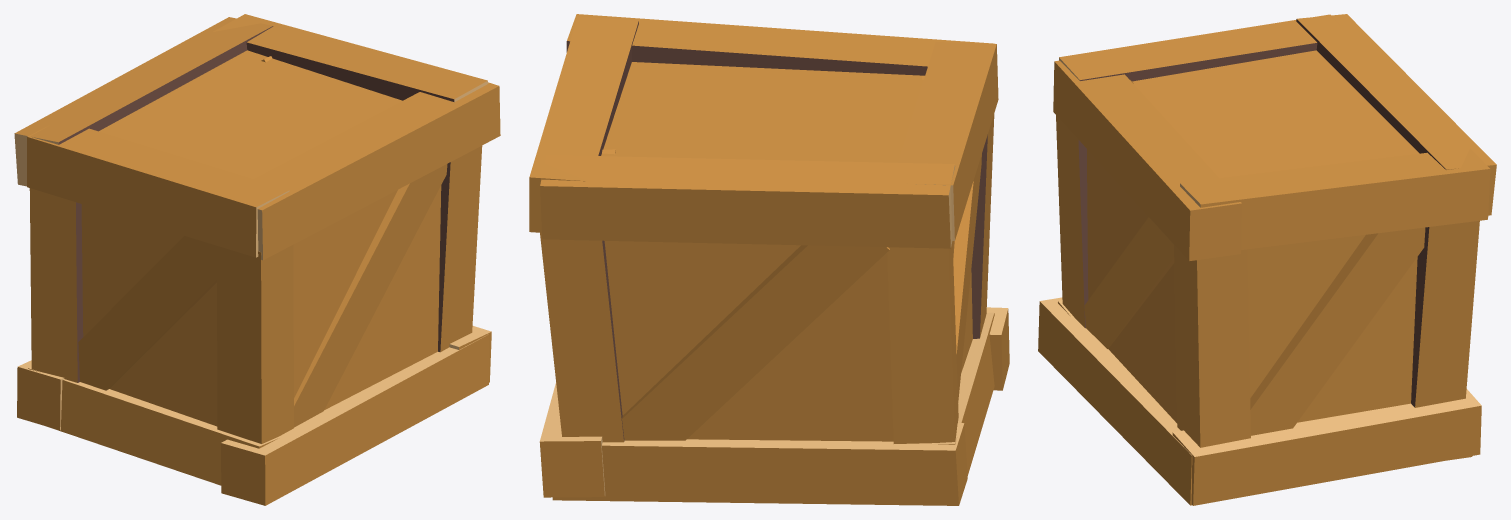
The model's file is Crate.fbx.
The picture shows the model from 3 angles, left to right: view 1: azimuth 30°, elevation 25°; view 2: azimuth 150°, elevation 25°; view 3: azimuth 270°, elevation 25°; orthographic projection. The views are drawn at different scales.
Visible parts, largest first — view 1: mesh_769379167, mesh_614302989, mesh_1640372572, mesh_1619923870, mesh_2024746474, mesh_39964771, mesh_115951327, mesh_981290163, mesh_27205149, mesh_1479183457, mesh_764046395, mesh_233117303 (+2 smaller); view 2: mesh_769379167, mesh_27205149, mesh_1069006943, mesh_789545055, mesh_1479183457, mesh_1256157347, mesh_614302989, mesh_1640372572, mesh_764046395, mesh_1988359528, mesh_115951327, mesh_2024746474 (+2 smaller); view 3: mesh_769379167, mesh_764046395, mesh_1988359528, mesh_614302989, mesh_233117303, mesh_447423448, mesh_1619923870, mesh_1256157347, mesh_27205149, mesh_1640372572, mesh_981290163, mesh_2024746474.
Boxes of the visible parts, x1,y1,x2,y2 form: mesh_769379167: (81,50,441,426); mesh_614302989: (254,82,500,260); mesh_1640372572: (27,126,289,257); mesh_1619923870: (221,334,488,505); mesh_2024746474: (217,244,293,443); mesh_39964771: (78,235,216,390); mesh_115951327: (28,366,279,485); mesh_981290163: (294,164,447,427); mesh_27205149: (14,17,273,186); mesh_1479183457: (29,188,83,382); mesh_764046395: (213,14,488,102); mesh_233117303: (438,146,482,352); mesh_769379167: (601,62,972,441); mesh_27205149: (540,155,955,248); mesh_1069006943: (552,423,967,505); mesh_789545055: (622,245,889,440); mesh_1479183457: (887,241,958,443); mesh_1256157347: (540,232,624,442); mesh_614302989: (566,14,994,75); mesh_1640372572: (898,42,998,240); mesh_764046395: (529,16,638,232); mesh_1988359528: (539,382,605,497); mesh_115951327: (932,312,994,475); mesh_2024746474: (971,114,994,338); mesh_769379167: (1087,50,1419,423); mesh_764046395: (1180,148,1490,249); mesh_1988359528: (1172,389,1481,505); mesh_614302989: (1053,60,1241,261); mesh_233117303: (1174,245,1250,447); mesh_447423448: (1250,227,1425,435); mesh_1619923870: (1038,297,1192,505); mesh_1256157347: (1411,220,1479,407); mesh_27205149: (1296,14,1496,215); mesh_1640372572: (1059,14,1344,81); mesh_981290163: (1084,217,1174,348); mesh_2024746474: (1056,115,1088,328).
Size of the model in its own units: 34.65 by 24.68 by 33.04.
